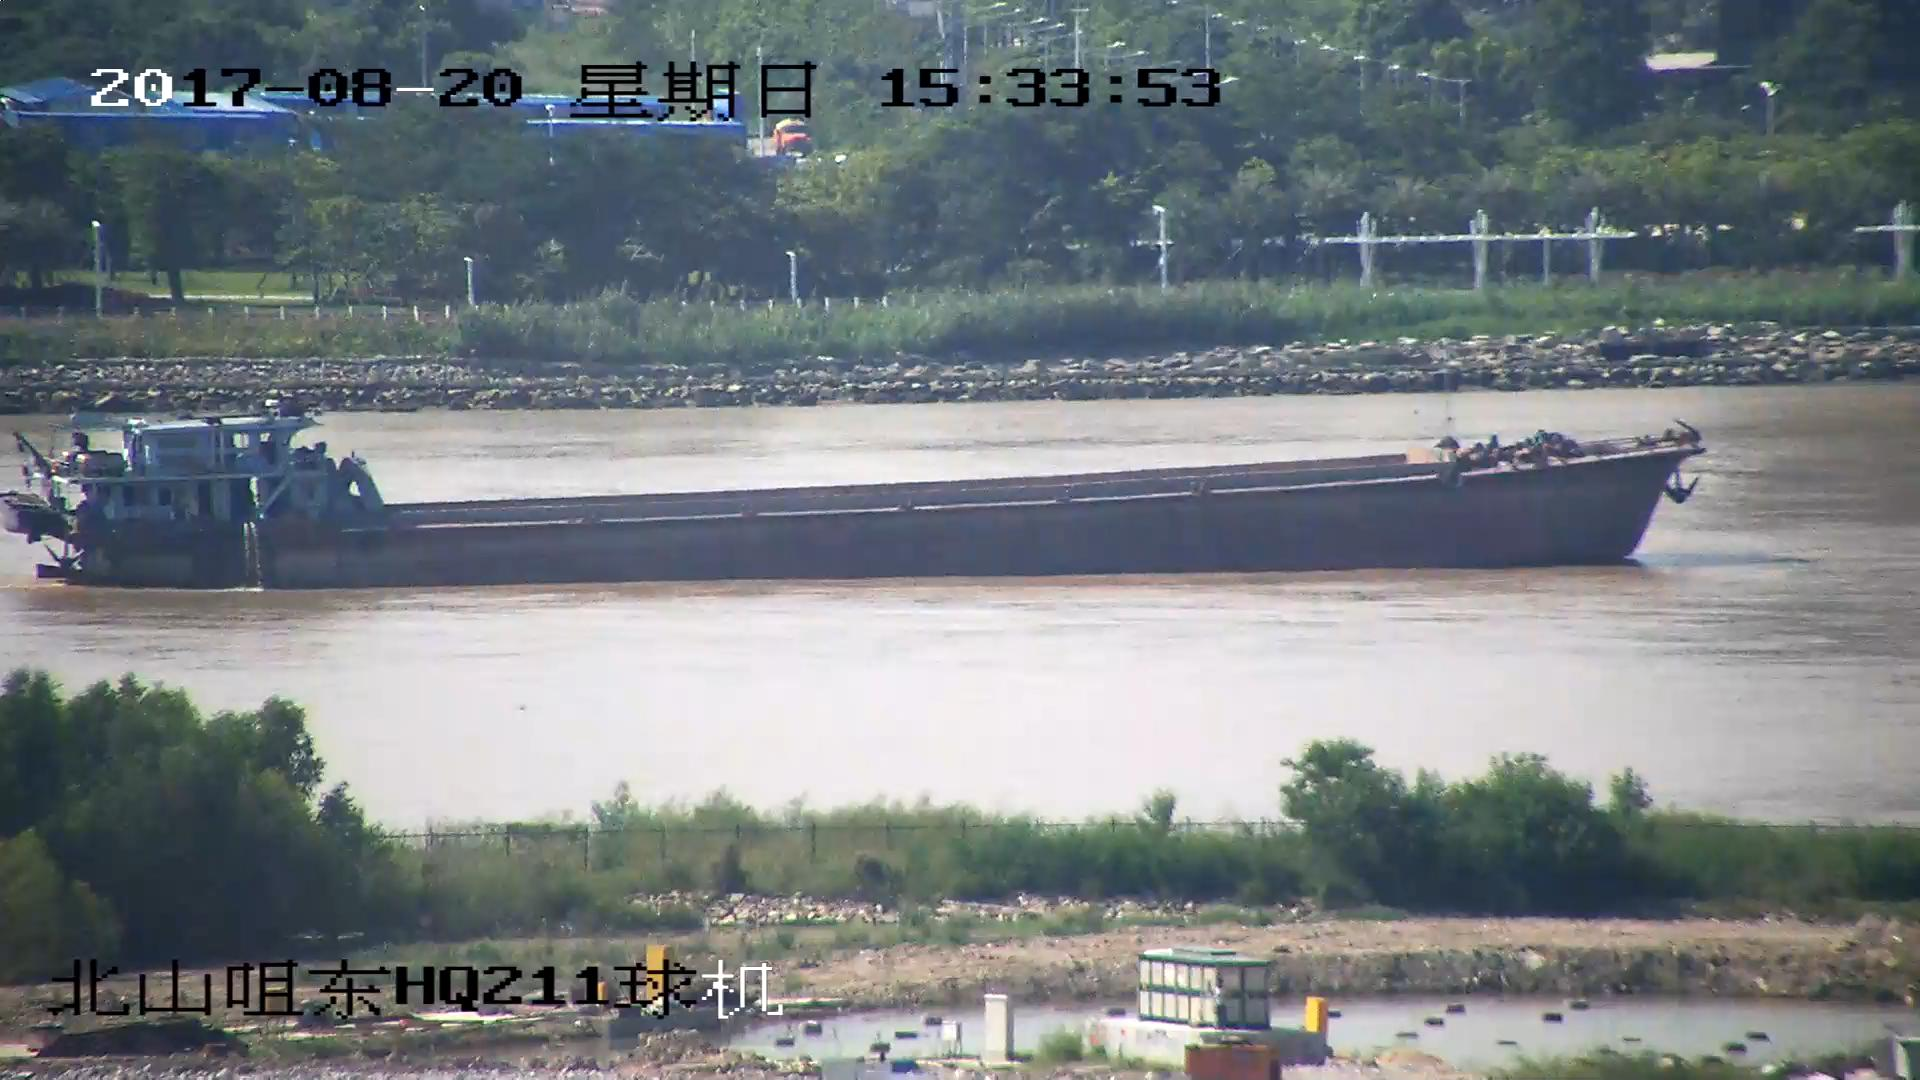bulk cargo carrier: (5, 401, 1699, 586)
